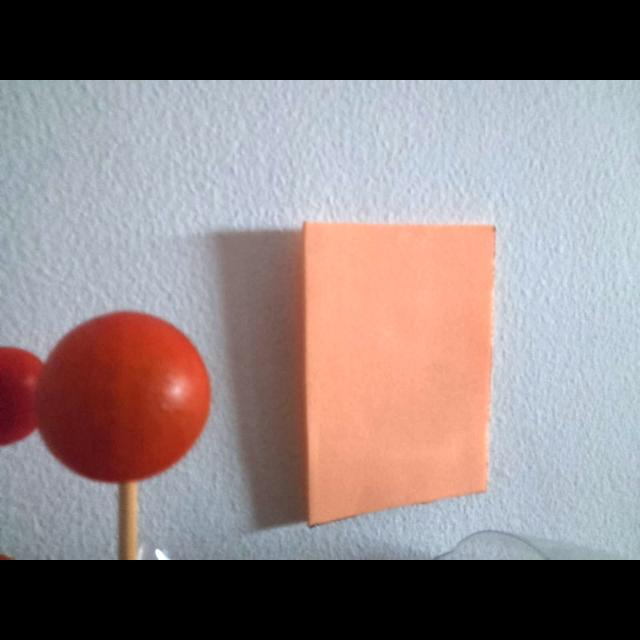card: (302, 222, 494, 525)
fruit_maturation: (0, 312, 210, 482)
